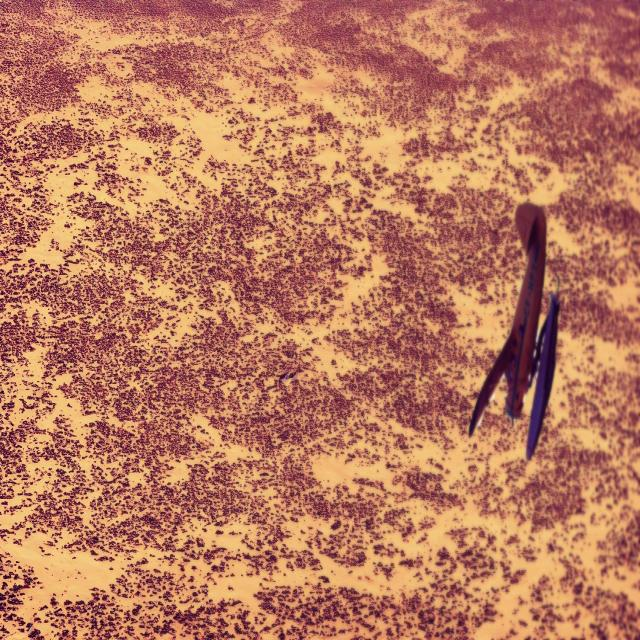airplane: (468, 201, 560, 460)
